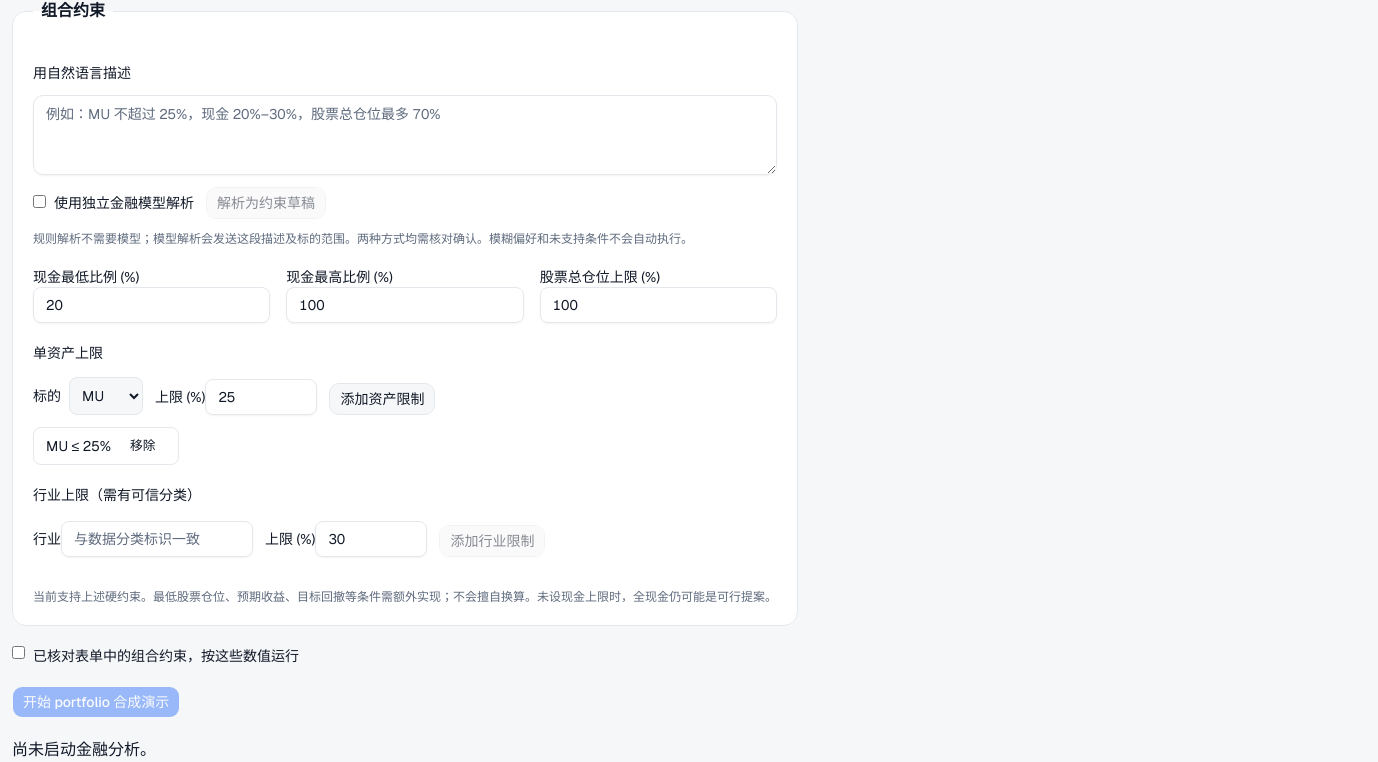
it: renders exact API limitation market_evidence_unavailable without inferring a system message
The width and height of the screenshot is (1378, 762).
(page scrolled)
Click the checkbox named "确认组合约束". click: (18, 652)
box: [12,646,25,659]
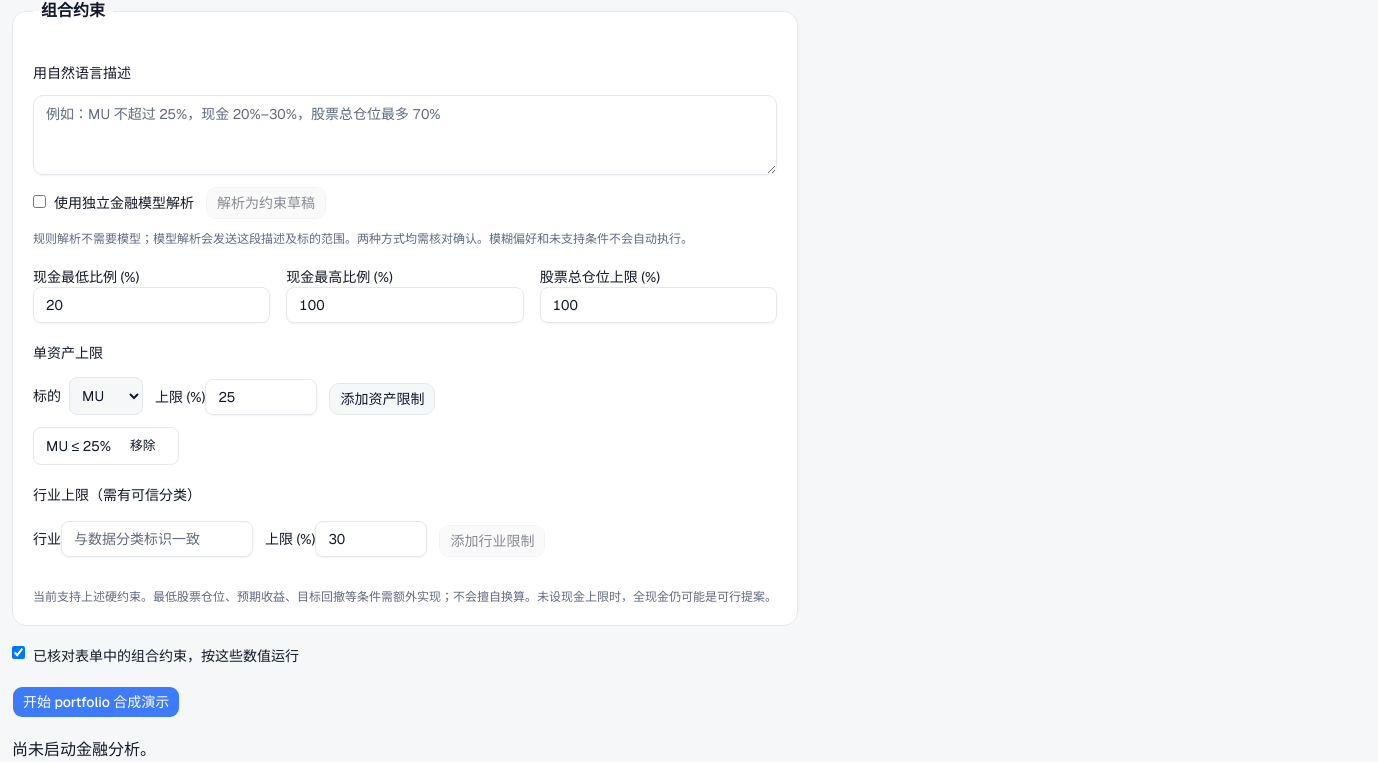
Click the button "开始 portfolio 合成演示". click: (96, 702)
box: [12,686,180,718]
(page scrolled)
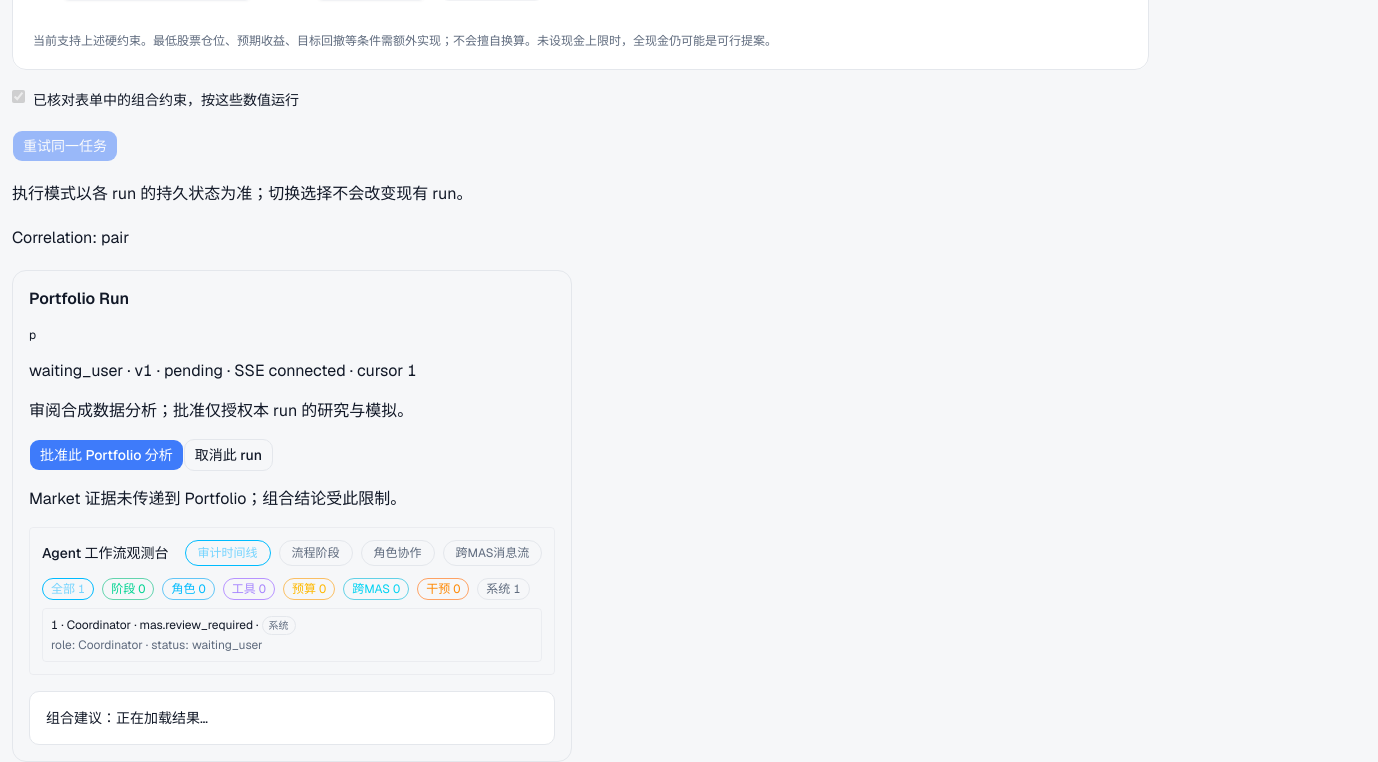
Expected: the button "批准此 Portfolio 分析" is enabled, [29,439,184,471]
Expected: the text "Market 证据未传递到 Portfolio；组合结论受此限制。" is shown, [29,488,406,509]
